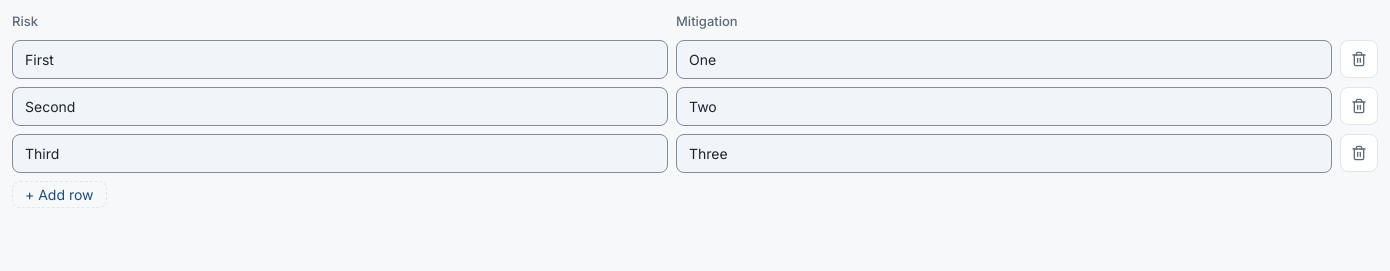
Test case: shared form parts › pair list (UX-15) › after removing, focuses the row in that place and announces it
The image size is (1390, 271).
Click the button named "Remove: Risks · Row 2" at (1359, 106), box [1340,86,1378,124]
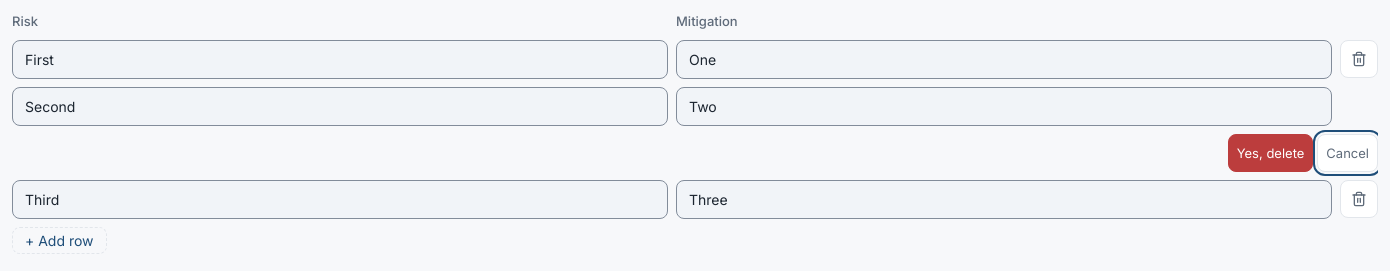
Click the button "Yes, delete" at (1270, 152), box [1228,134,1313,172]
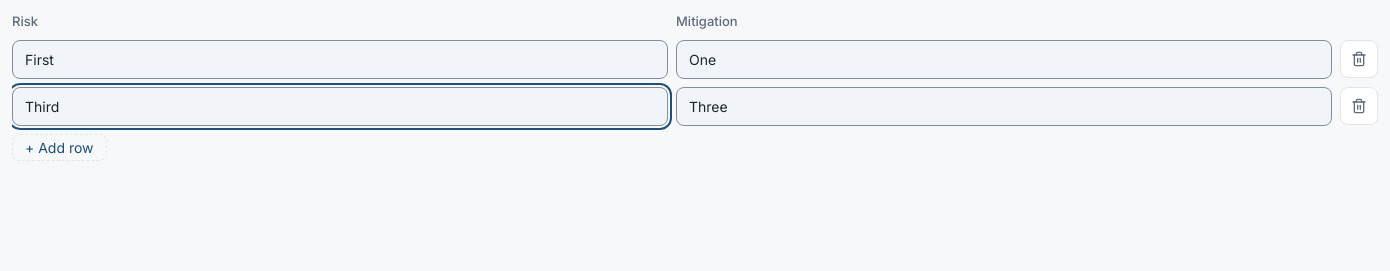
Now the 3rd text box named "Risk · Row 2" holds "Third", box [12,86,668,126]
